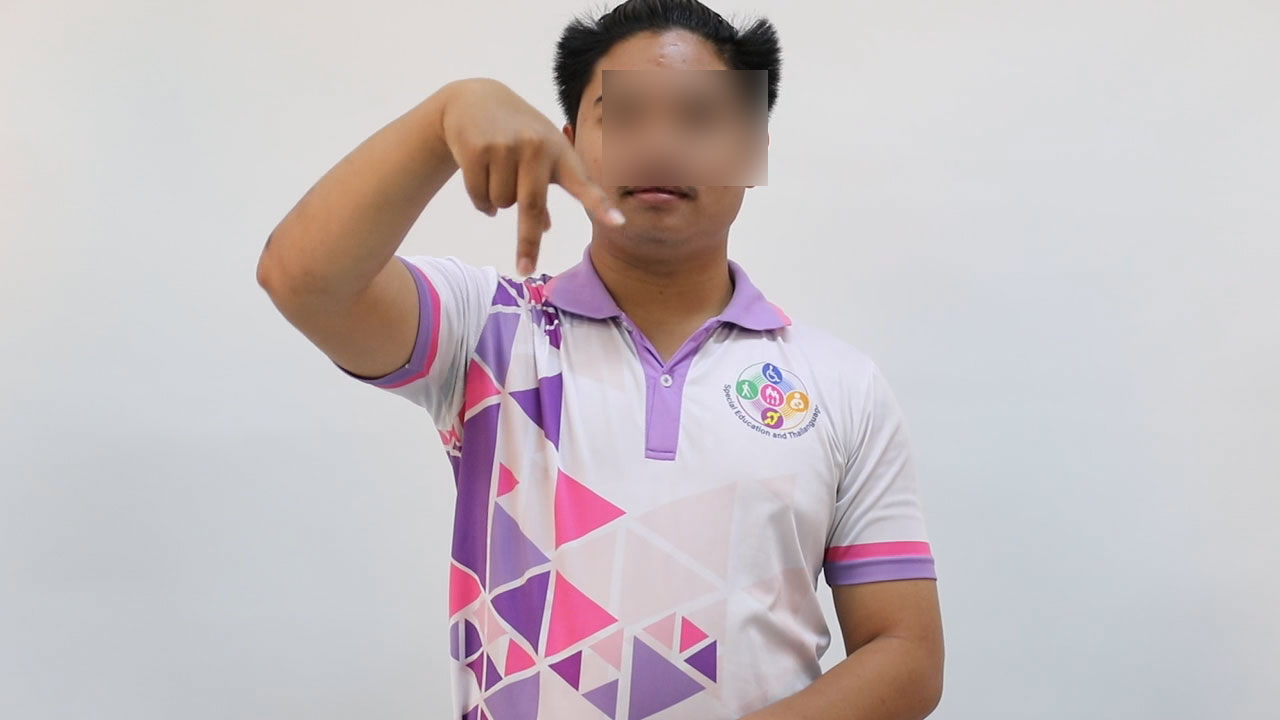por: (424, 66, 629, 280)
